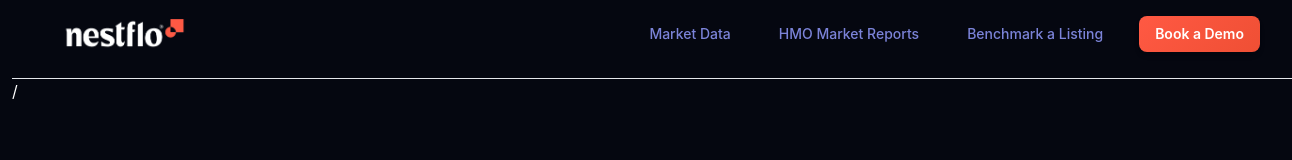
Test case: Scenario: Nav links are router links, not full-page anchors › routes the SPA to the destination when "Market Data" is clicked
What coordinates should you click on to do the following:
click the link "Market Data"
I would click on:
 (690, 34)
Its box is [649,25,731,42].
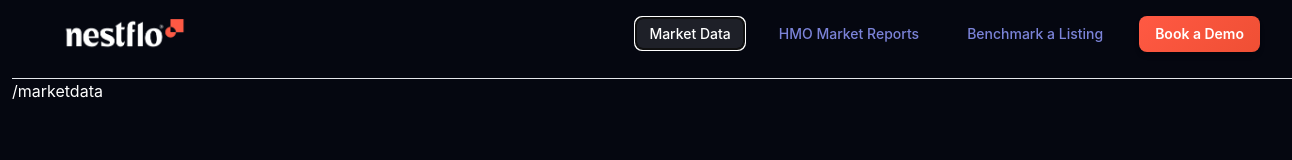
Result: the text with test id "location-probe" reads "/marketdata" at [12,81,103,101]
